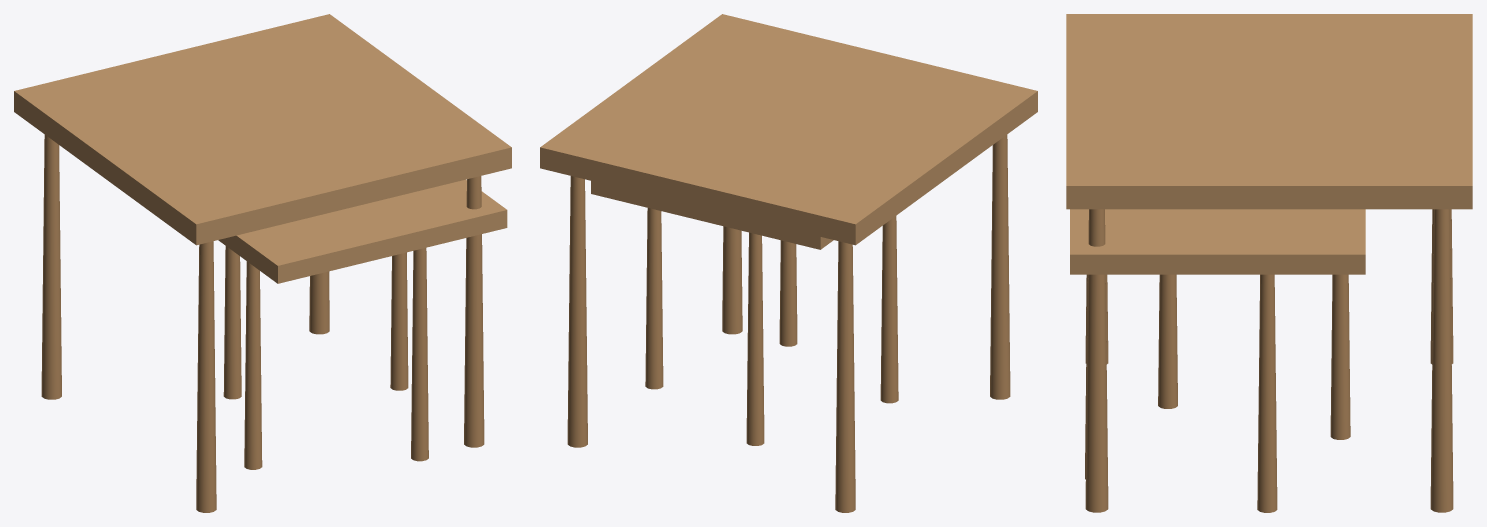
The model's file is nestingtable.glb.
3 views of the same model, side by side, from view 1: azimuth 30°, elevation 25°; view 2: azimuth 150°, elevation 25°; view 3: azimuth 270°, elevation 25° (orthographic). The views are drawn at different scales.
Parts seen in each view (by area): view 1: material-0-top, material-1-leg; view 2: material-0-top, material-1-leg; view 3: material-0-top, material-1-leg.
Boxes of the visible parts, left/top/right/bottom form: material-0-top: left=14, top=14, right=511, bottom=283; material-1-leg: left=41, top=135, right=484, bottom=512; material-0-top: left=540, top=14, right=1037, bottom=249; material-1-leg: left=567, top=135, right=1010, bottom=512; material-0-top: left=1066, top=14, right=1472, bottom=274; material-1-leg: left=1085, top=209, right=1453, bottom=512.
Bounding box in the file's own units: 0.55 × 0.5 × 0.55.
